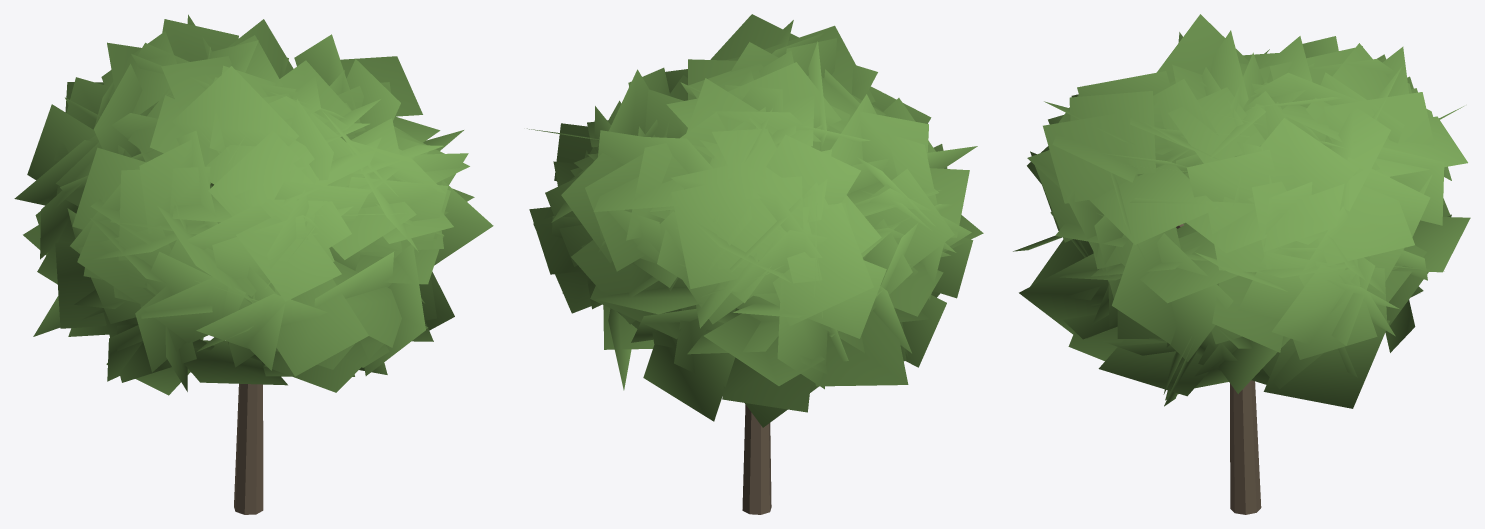
File: tree_0.glb
3 views of the same model, side by side, from view 1: azimuth 30°, elevation 25°; view 2: azimuth 150°, elevation 25°; view 3: azimuth 270°, elevation 25° (orthographic). The views are drawn at different scales.
Visible parts, largest first — view 1: Leaves_Crown, Bark_Trunk; view 2: Leaves_Crown, Bark_Trunk; view 3: Leaves_Crown, Bark_Trunk.
Boxes of the visible parts, <box> form: Leaves_Crown: <box>14,14,493,395</box>; Bark_Trunk: <box>234,383,263,514</box>; Leaves_Crown: <box>527,14,983,427</box>; Bark_Trunk: <box>742,404,771,514</box>; Leaves_Crown: <box>1013,14,1470,408</box>; Bark_Trunk: <box>1176,224,1261,514</box>.
Size of the model in its own units: 12.6 by 14.03 by 12.27.
